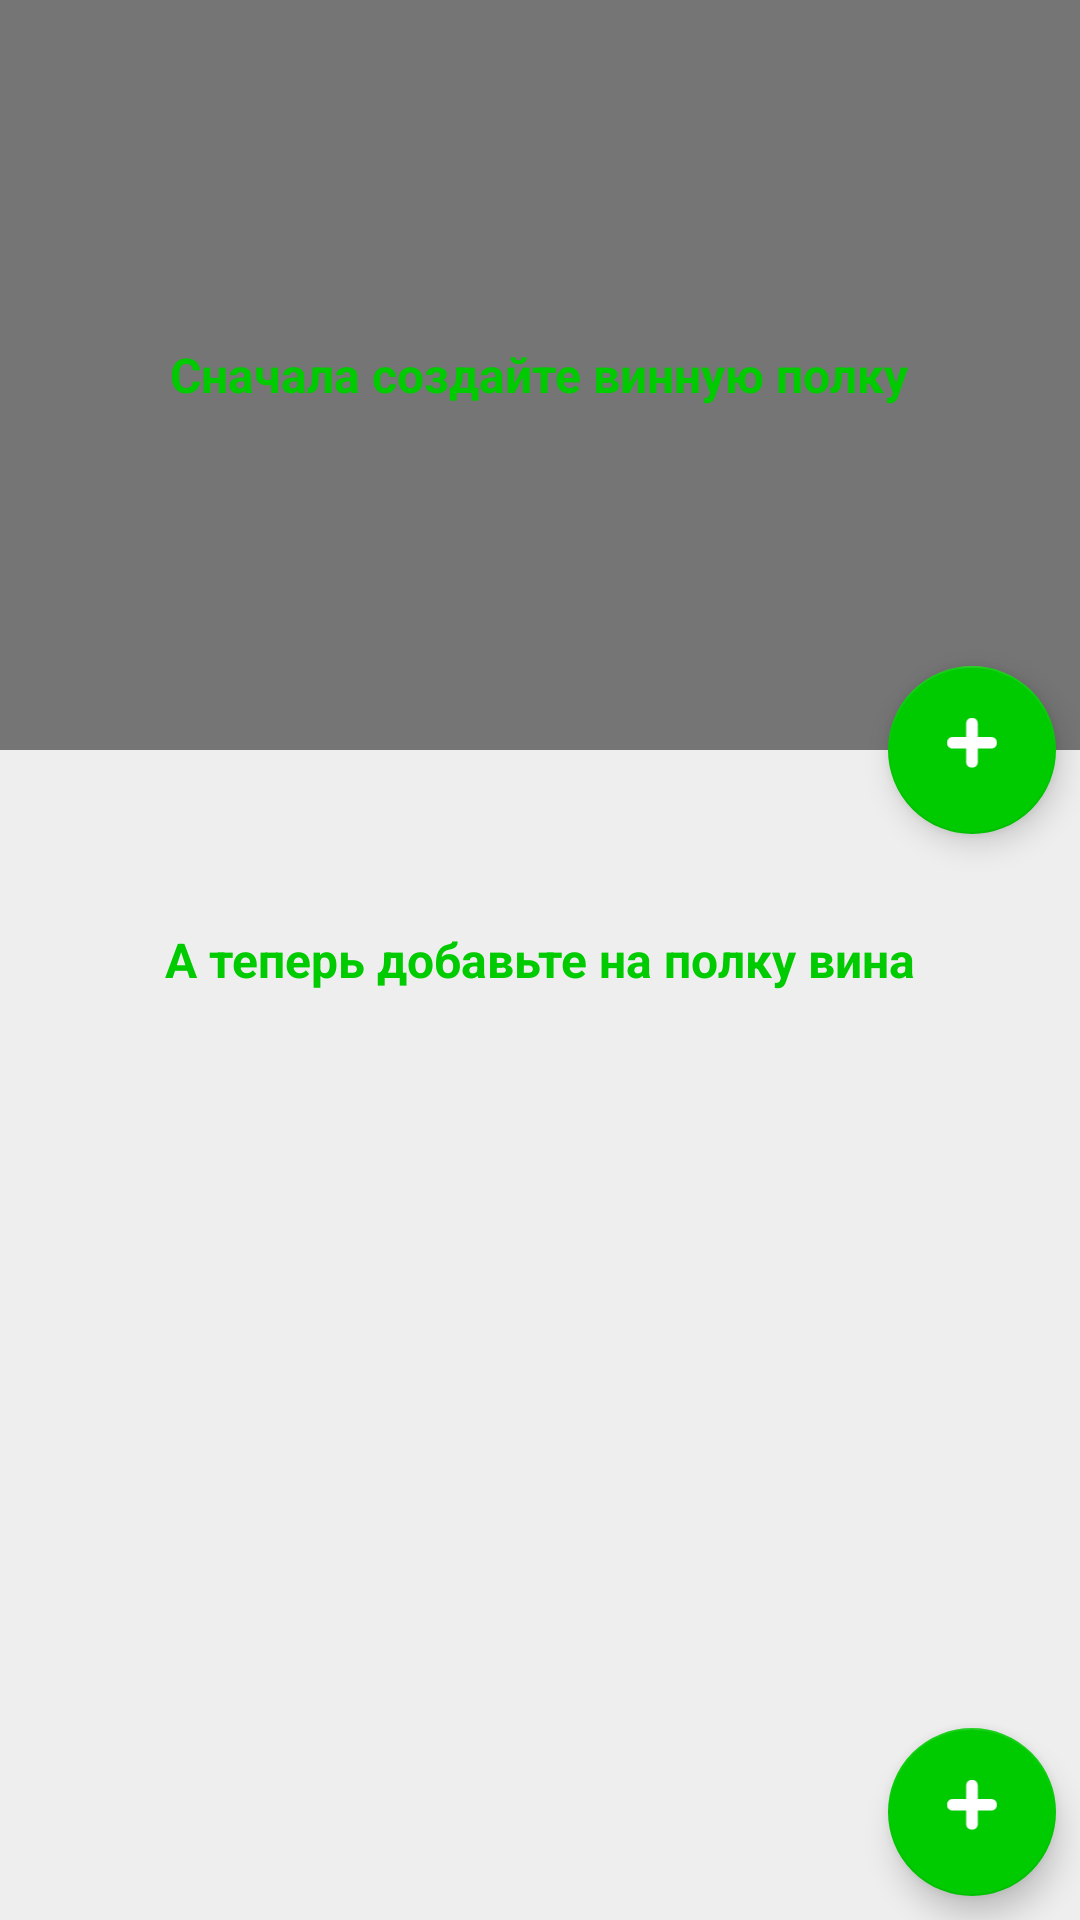

Icon click points for this 1080px×1920px phone screenshot, format (x,y):
plus: (972,750), (972,1812)
